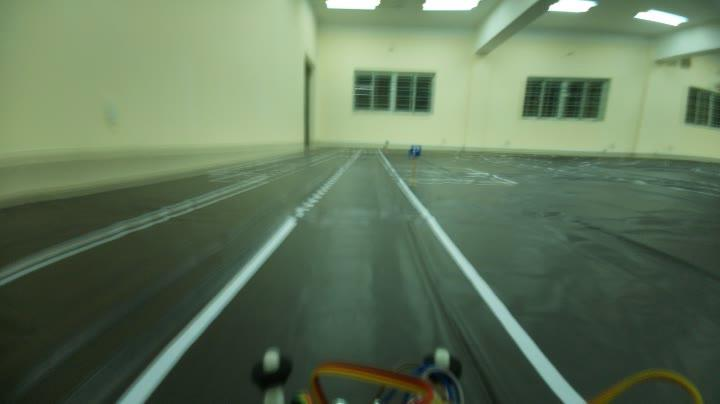parking: (406, 141, 424, 159)
